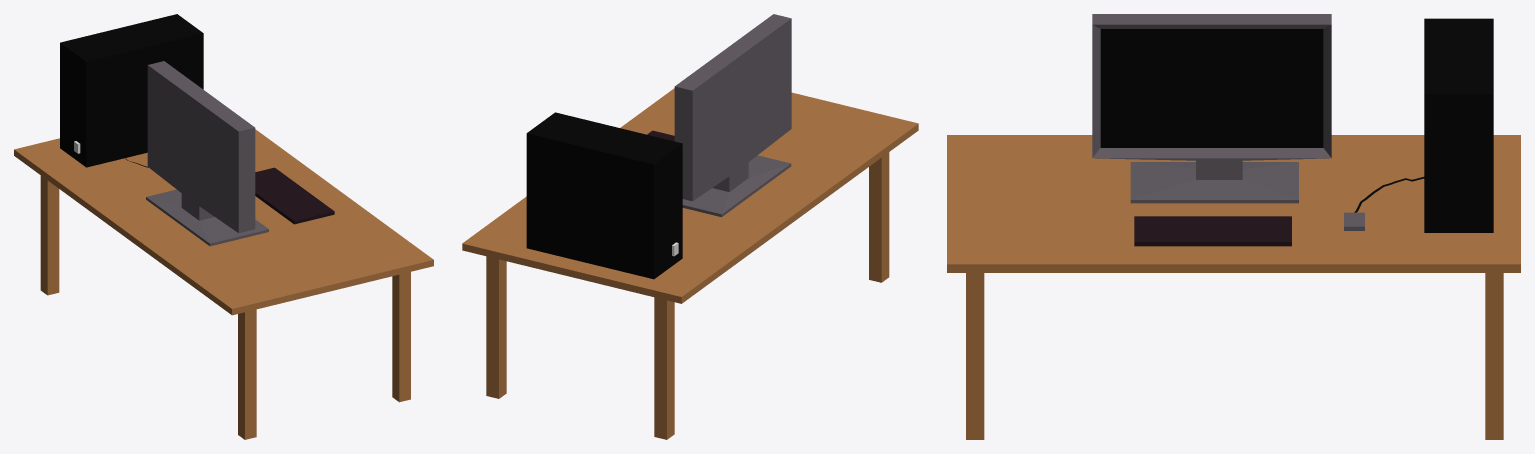
File: table.glb
3 views of the same model, side by side, from view 1: azimuth 30°, elevation 25°; view 2: azimuth 150°, elevation 25°; view 3: azimuth 270°, elevation 25° (orthographic). The views are drawn at different scales.
Parts seen in each view (by area): view 1: Cube; view 2: Cube; view 3: Cube.
Part boxes in pixels (bbox=[...]): Cube: bbox=[14, 14, 433, 439]; Cube: bbox=[462, 14, 918, 439]; Cube: bbox=[947, 14, 1520, 439].
Size of the model in its own units: 784 by 976 by 1467.
